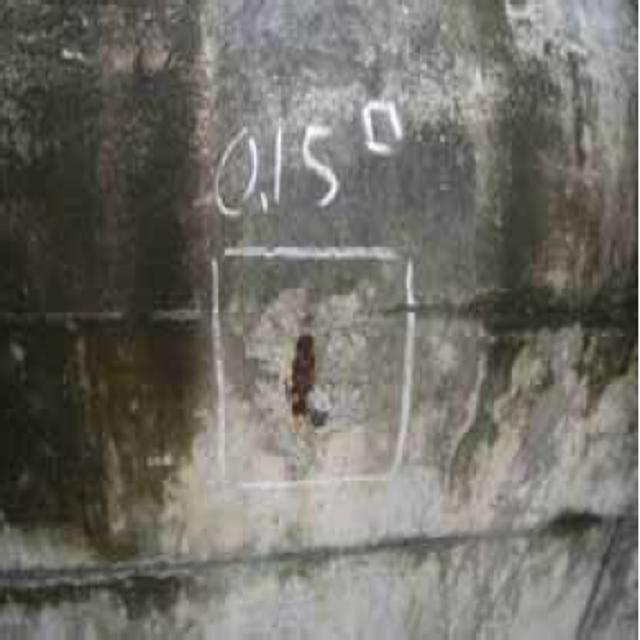spalling: (236, 266, 387, 446)
